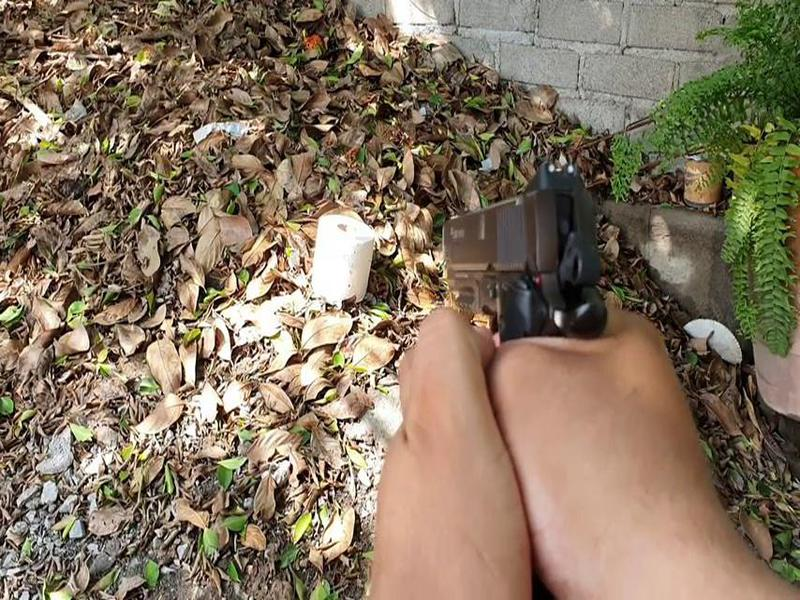Pistola: (419, 150, 637, 347)
